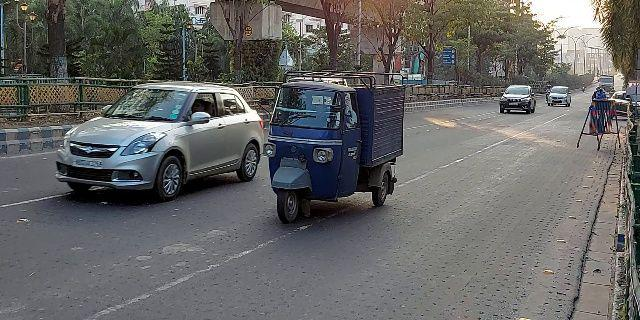Autorickshaw: (261, 68, 406, 223)
Car: (54, 80, 265, 203), (497, 80, 538, 117), (546, 82, 573, 110)
